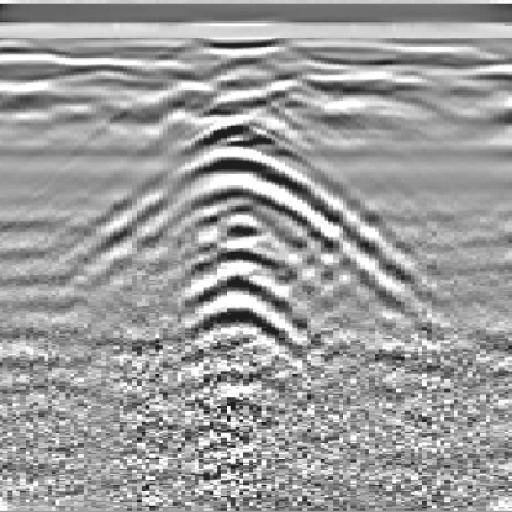metalic: (87, 61, 420, 390)
